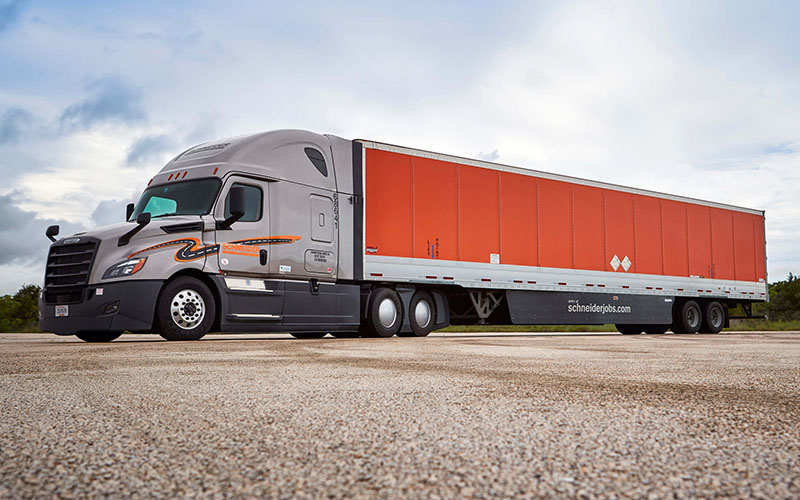truck: (39, 127, 768, 346)
